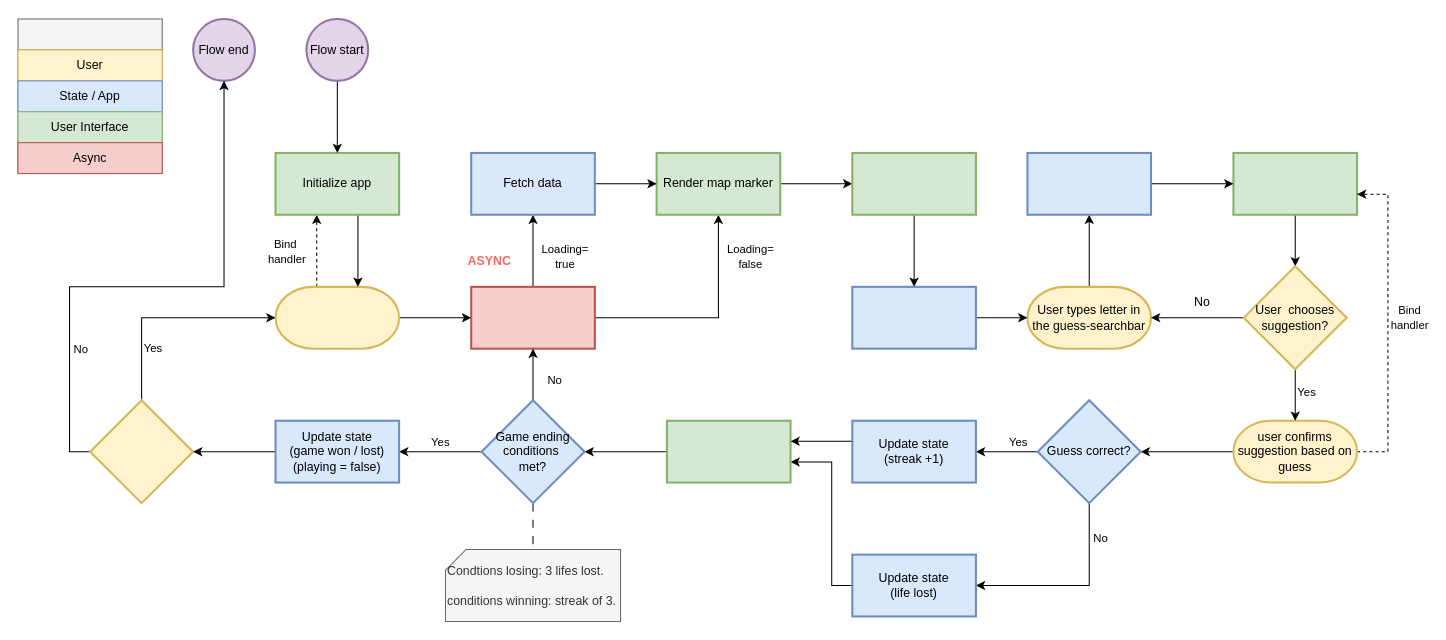
The diagram is 1446 pixels wide and 640 high, and some of its shapes have lost their labels. Each missing label, with the box of its shape:
Center map around marker: (851, 151, 976, 215)
Filter country list: (1026, 151, 1152, 215)
legend: (17, 18, 162, 174)
Load new random coordinates: (470, 285, 595, 349)
Render country suggestions.: (1232, 151, 1358, 215)
Render new stats: (665, 419, 791, 483)
Update state (playing = true): (851, 285, 976, 349)
user clicks start: (274, 285, 400, 349)
User plays again?: (89, 399, 194, 504)
